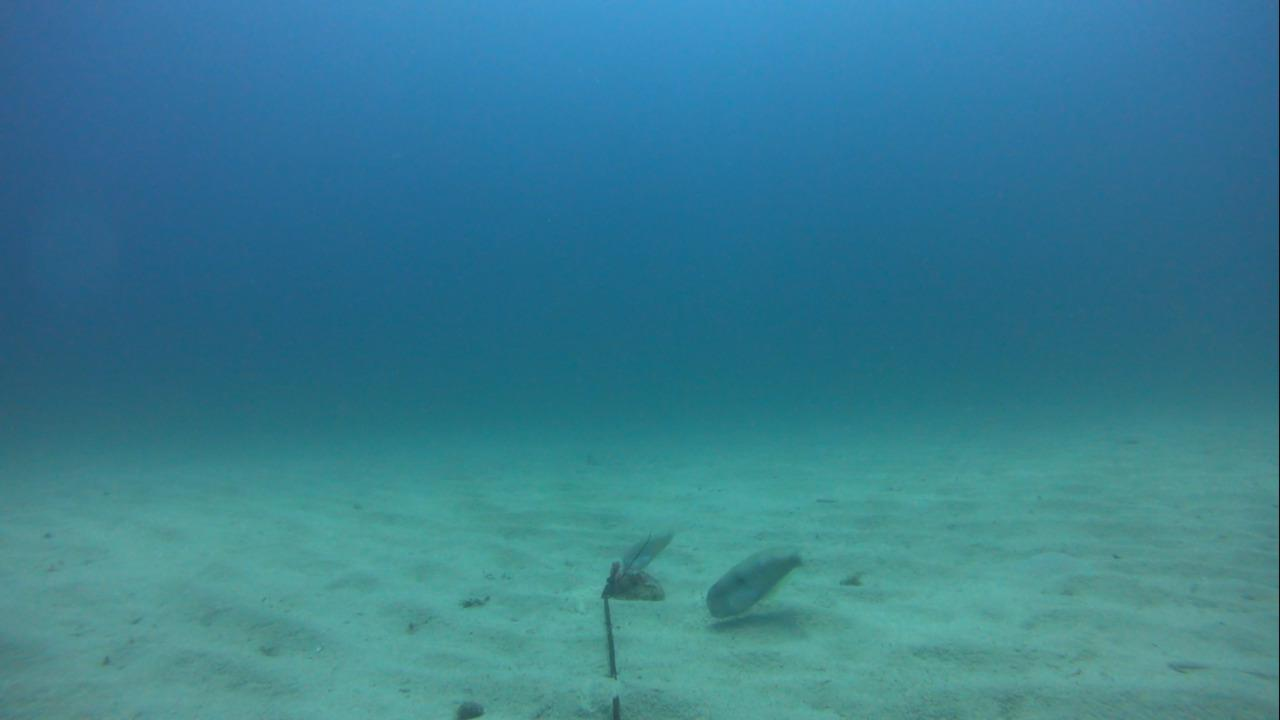raor: (703, 542, 810, 621), (616, 523, 676, 581)
